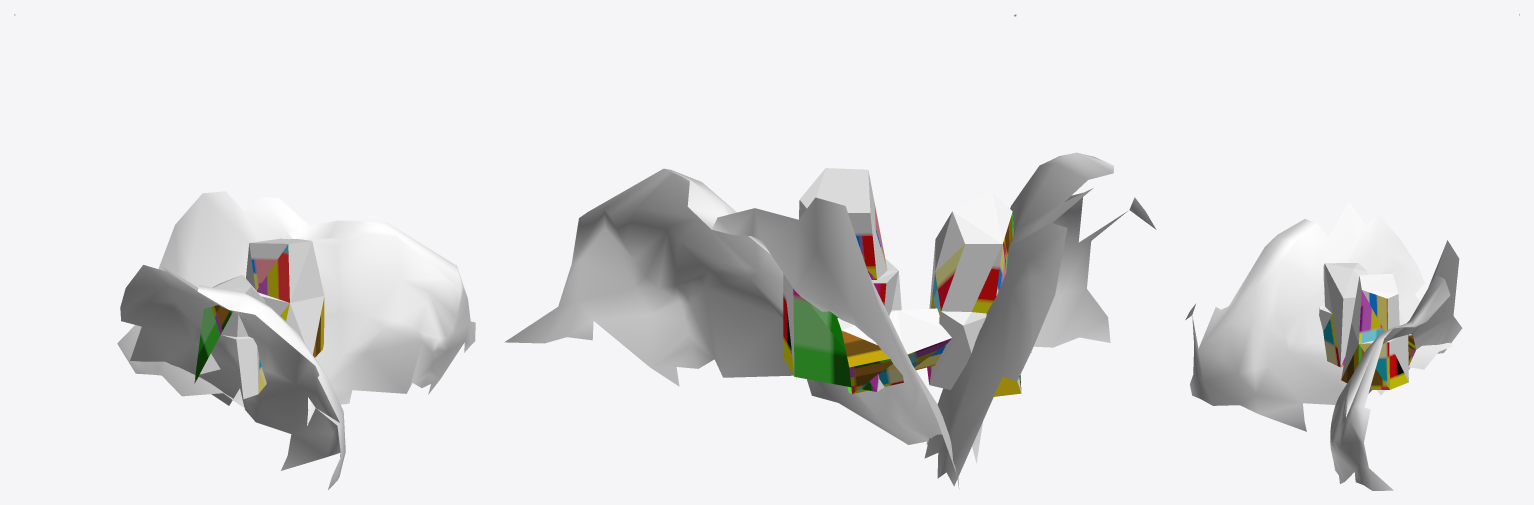
3 renders of one model, left to right at view 1: azimuth 30°, elevation 25°; view 2: azimuth 150°, elevation 25°; view 3: azimuth 270°, elevation 25°, orthographic. The views are drawn at different scales.
Visible parts, largest first — view 1: part4; view 2: part4; view 3: part4.
Part boxes in pixels (x1,y1,x2,y2): part4: [14, 14, 475, 489]; part4: [504, 14, 1156, 489]; part4: [1185, 14, 1519, 490].
Bounding box in the file's own units: 420 × 416 × 355.
2 materials, 2 textured.
